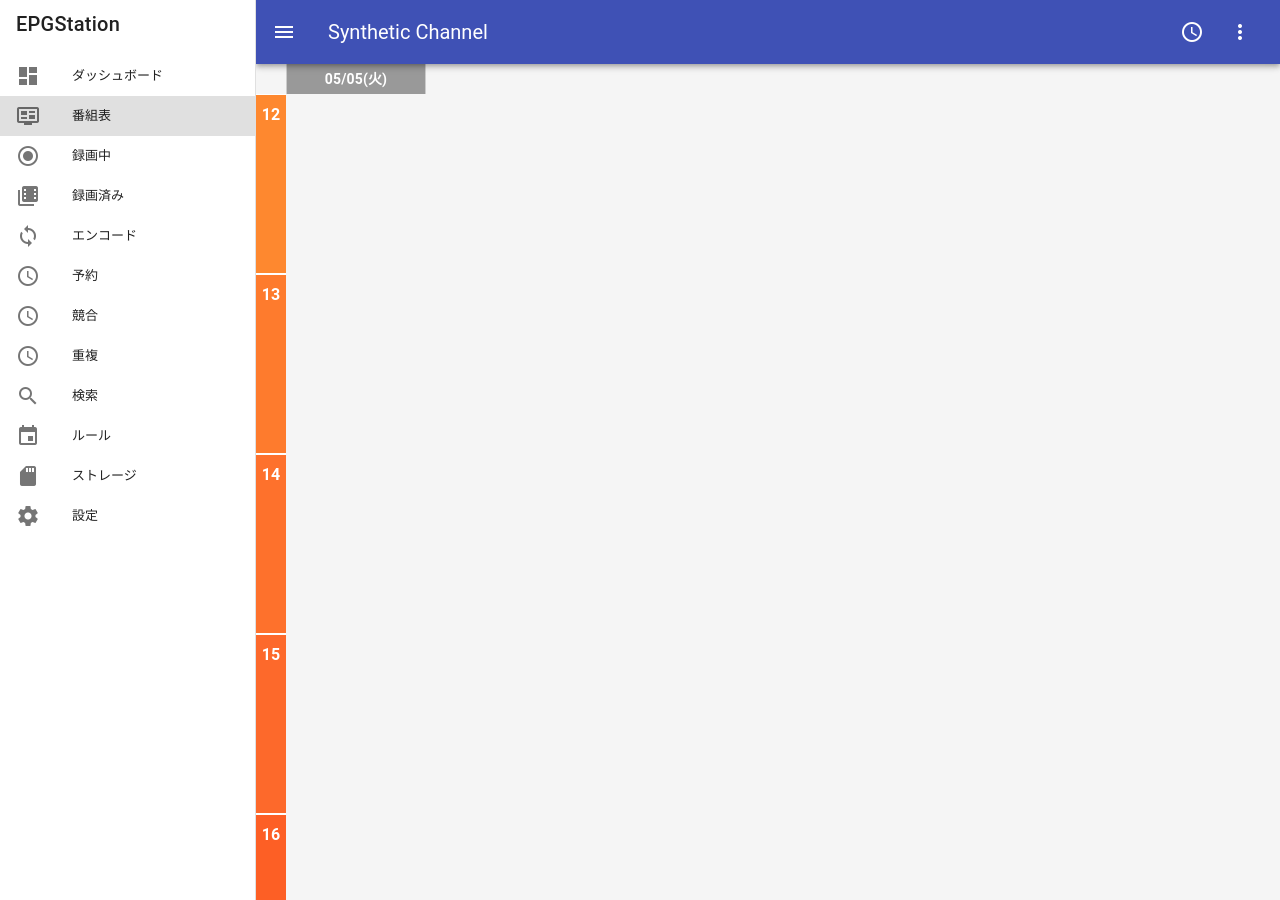
Scenario: Guide route and fetch lifecycle › [AC 3.3] [AC 3.4] [AC 3.5] [AC 3.6] opens the day selector from the Guide title and routes to the selected day while keeping valid filters
Check: the element with test id "guide-page" is shown, box [256, 64, 426, 899]
Check: the button named "時刻選択" is empty, box [1168, 8, 1216, 56]
What coordinates should you click on to do the following:
click the heading "Synthetic Channel"
I would click on:
 (398, 32)
Its box is [308, 17, 488, 47].
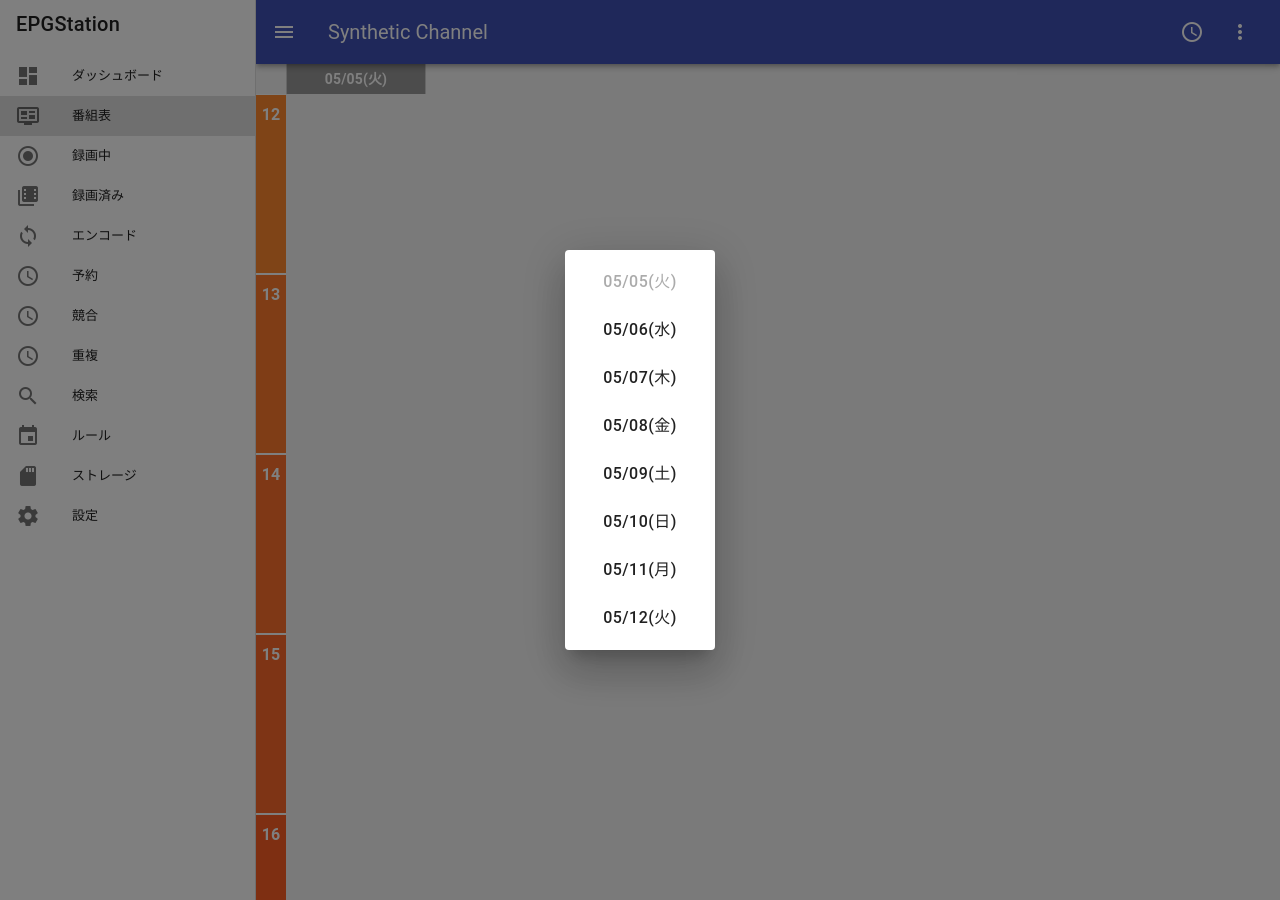
Check: the dialog named "日付選択" does not show "日付選択", box [565, 250, 715, 650]
Check: the number of buttons with test id "guide-day-option" is 8
Check: the button "05/05(火)" is disabled, box [565, 258, 715, 306]
What coordinates should you click on to do the following:
click the button "05/06(水)"
I would click on:
 (640, 330)
Its box is [565, 306, 715, 354].
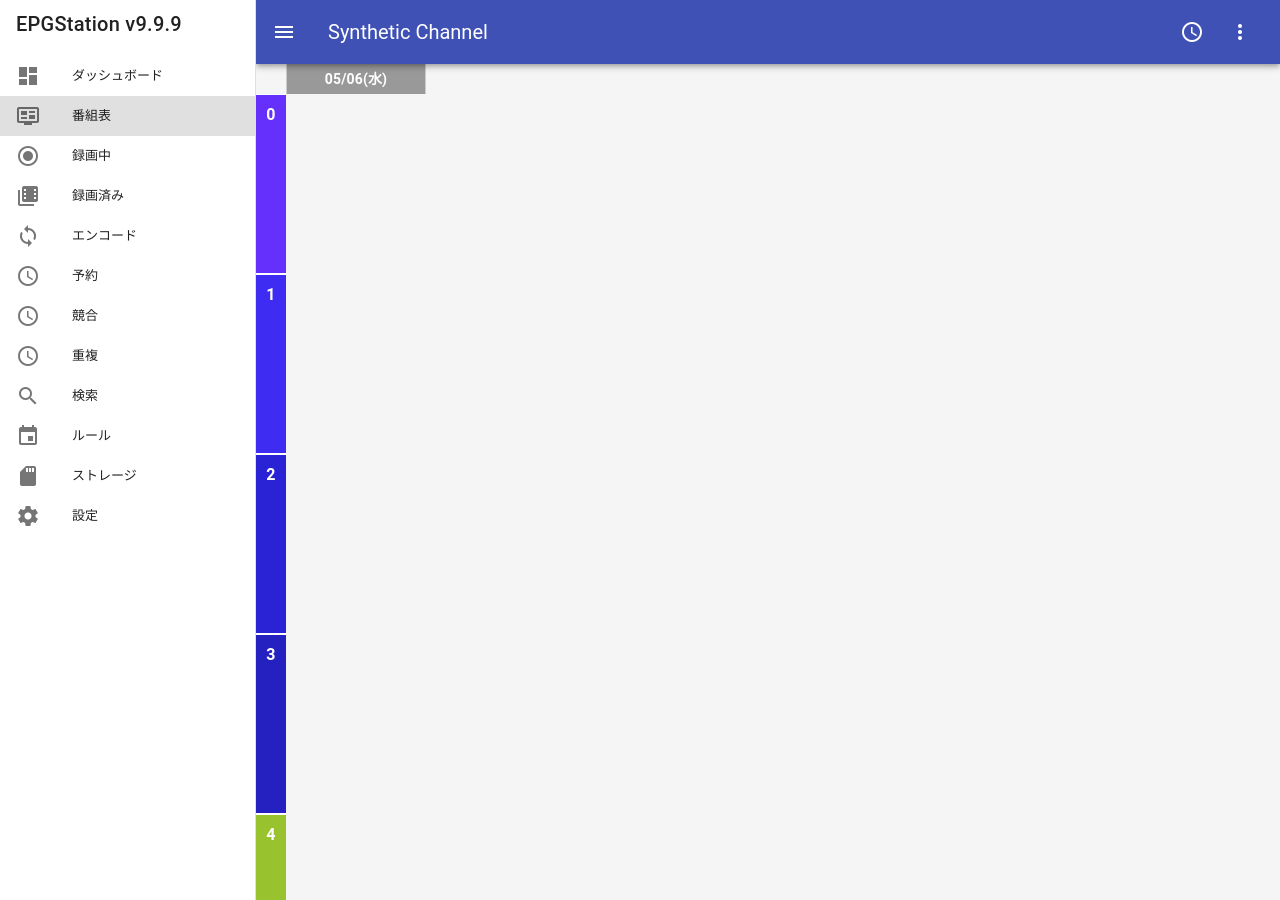
Check: the dialog is gone
